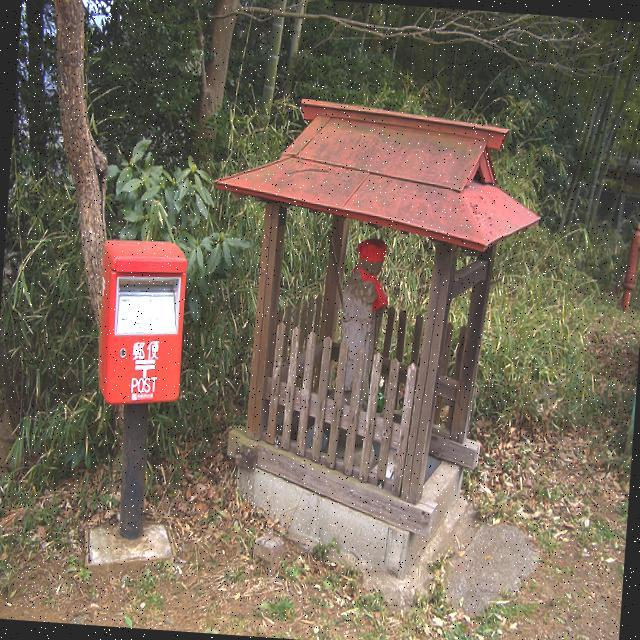fire_hydrant: (347, 233, 392, 350)
